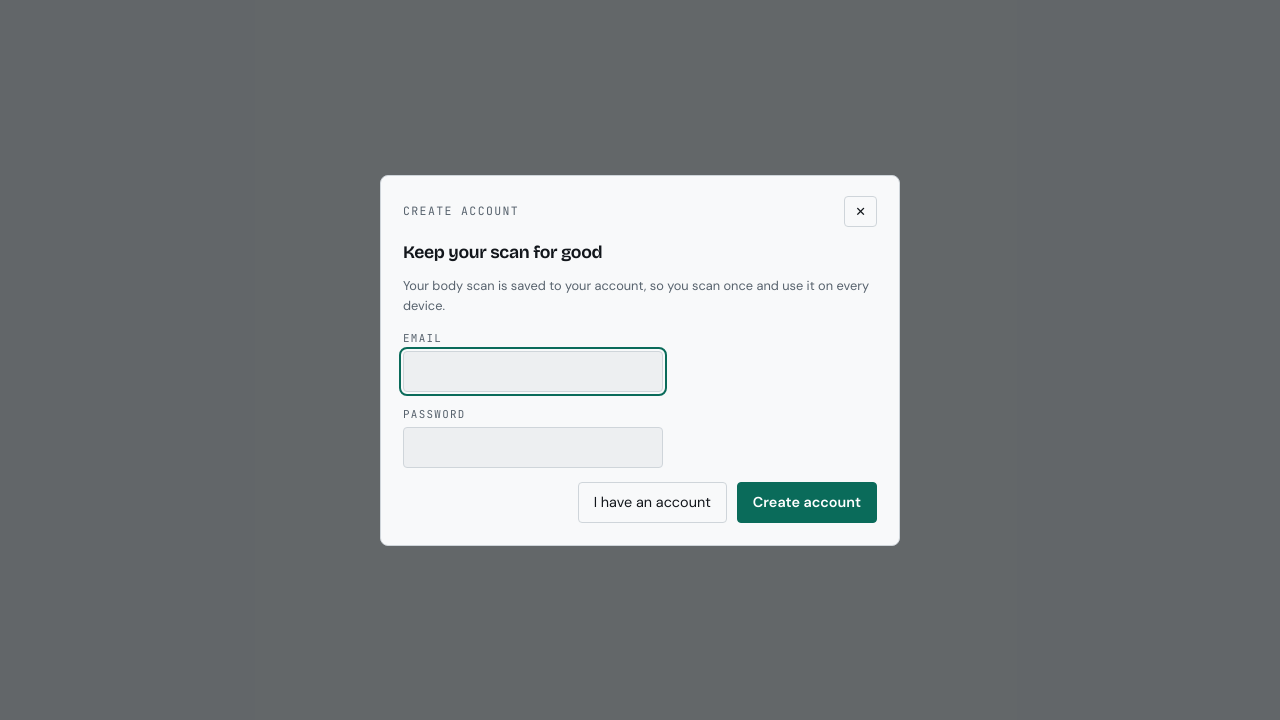
Scenario: AuthModal › clears a previous error when switching mode
Type "me@example.com" into the field labelled "Email".
click(533, 371); type("me@example.com")  # box x1=403 y1=351 x2=663 y2=392
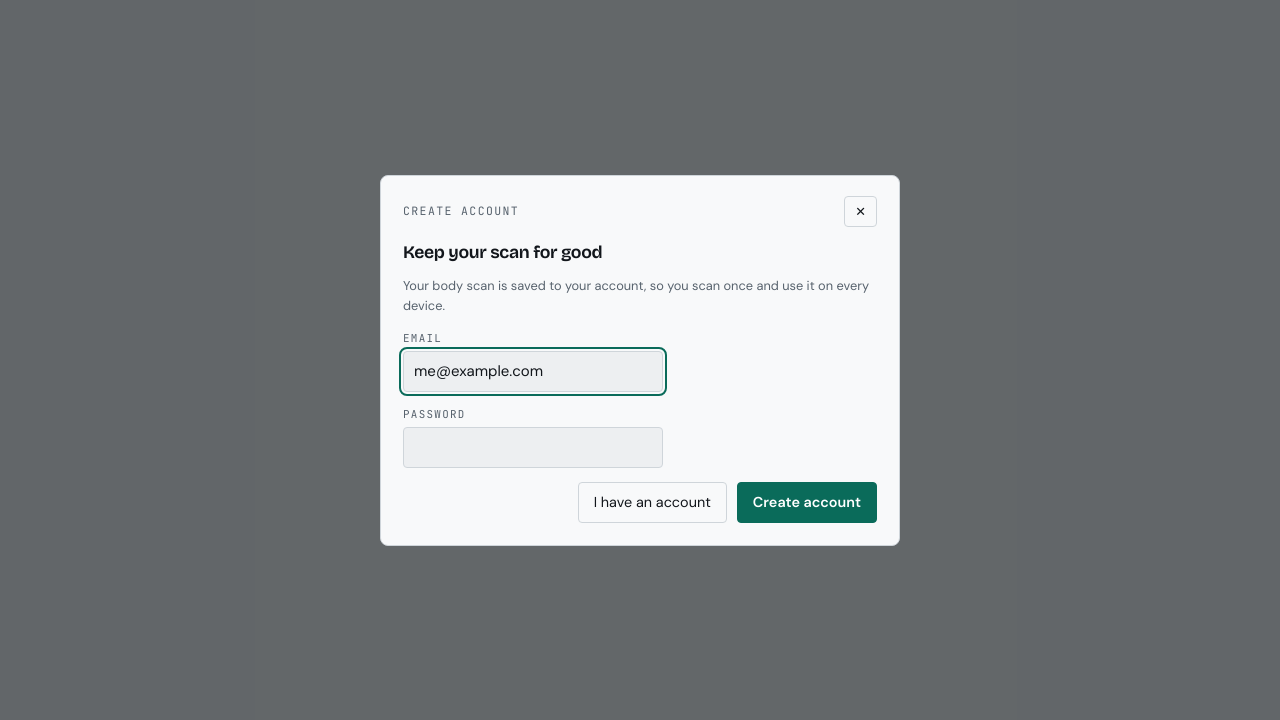
Type "password123" into the password field labelled "Password".
click(533, 448); type("password123")  # box x1=403 y1=427 x2=663 y2=468
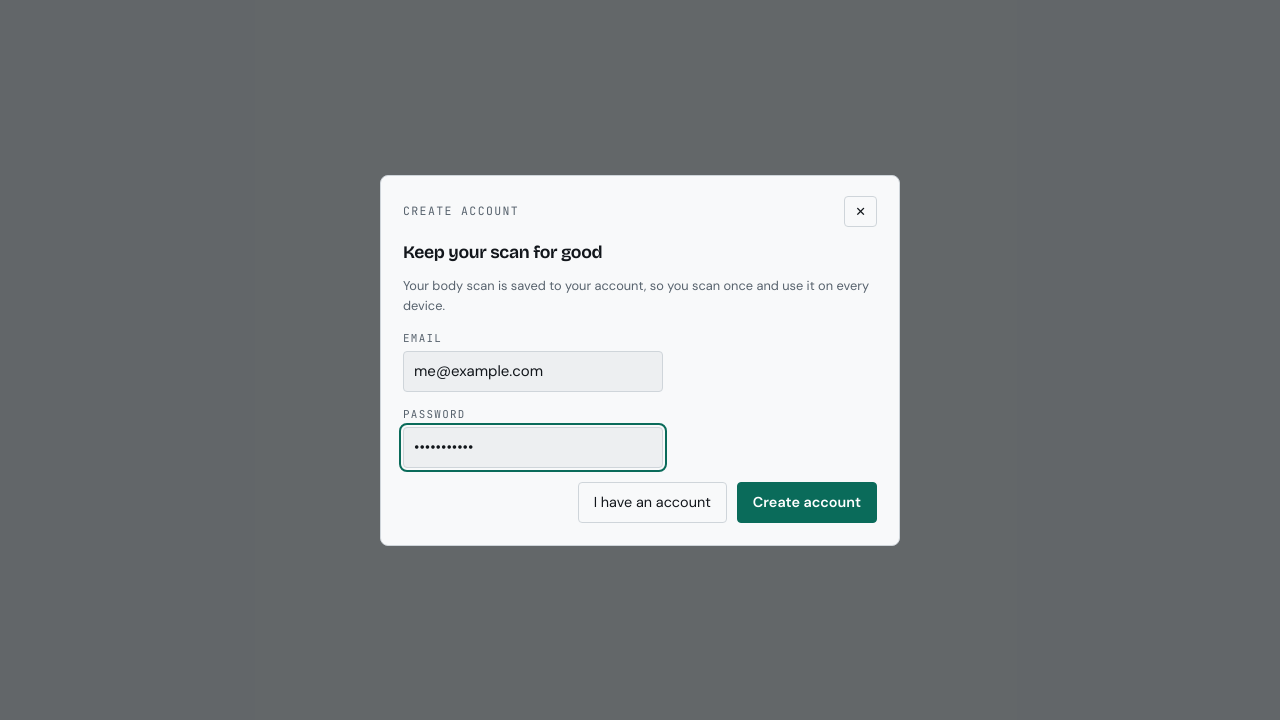
Click the button "Create account".
click(807, 502)  # box x1=737 y1=482 x2=877 y2=522
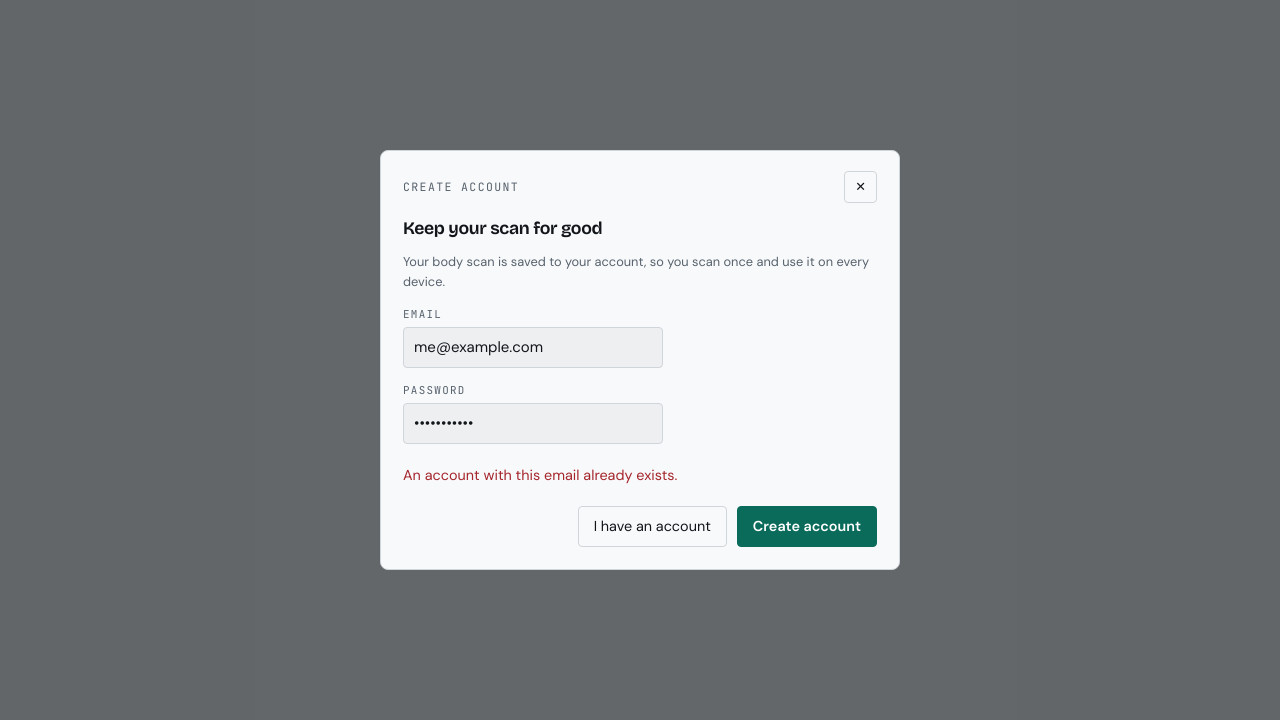
Check: the message "An account with this email already exists." is shown, box x1=403 y1=466 x2=677 y2=484
Click the button "I have an account".
click(652, 526)  # box x1=578 y1=506 x2=727 y2=547
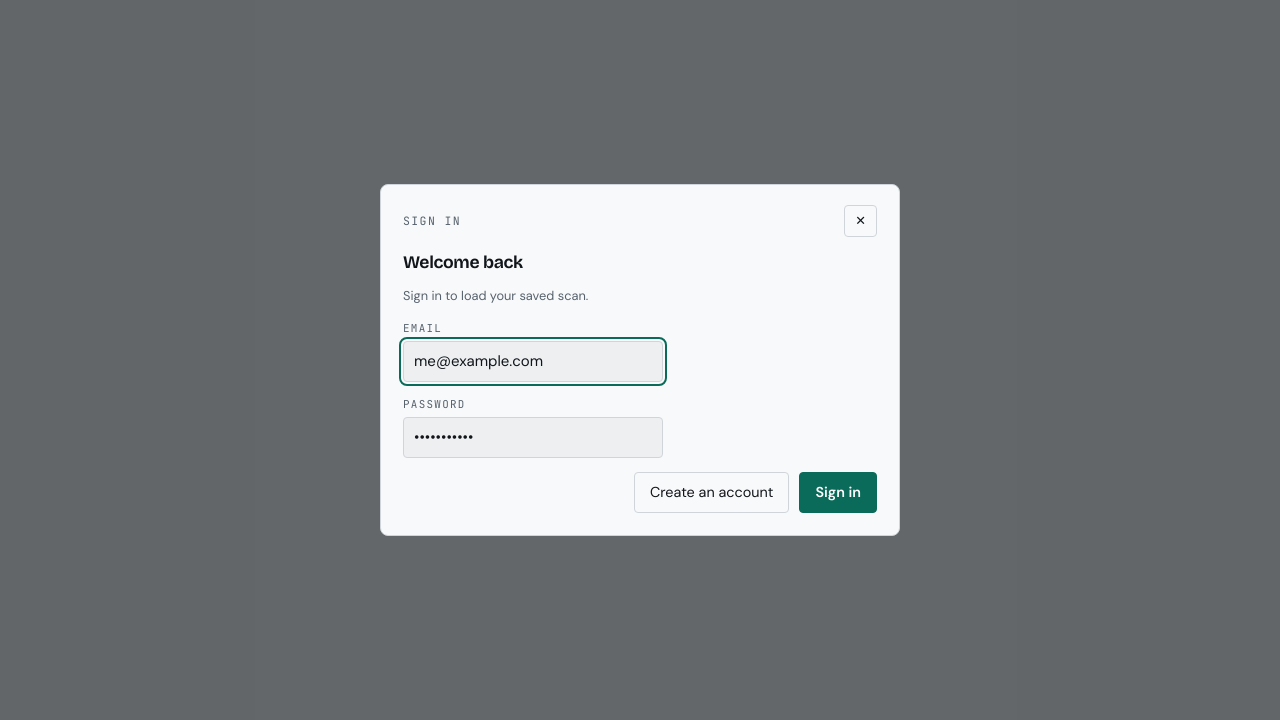
Check: the message "An account with this email already exists." is gone
